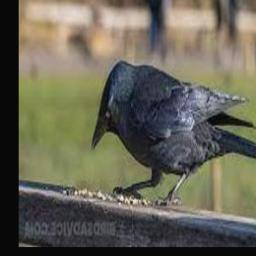Crow: (92, 60, 256, 205)
